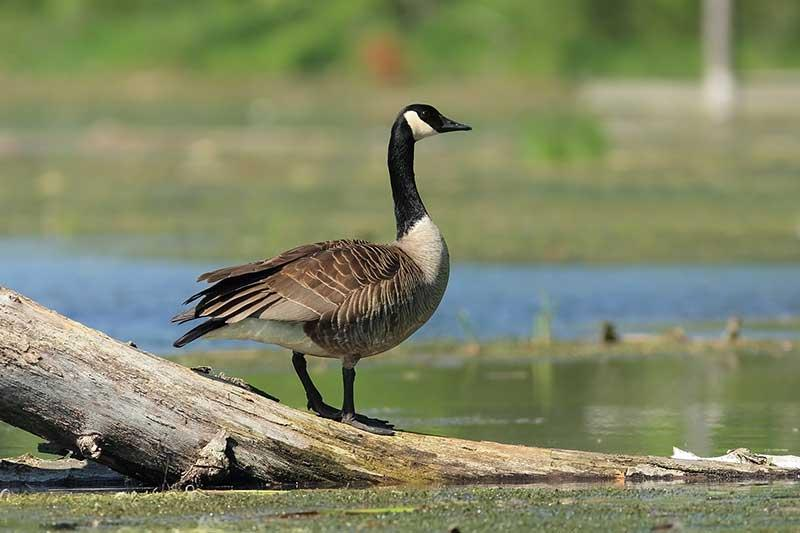Canadian-Goose: (179, 101, 473, 438)
